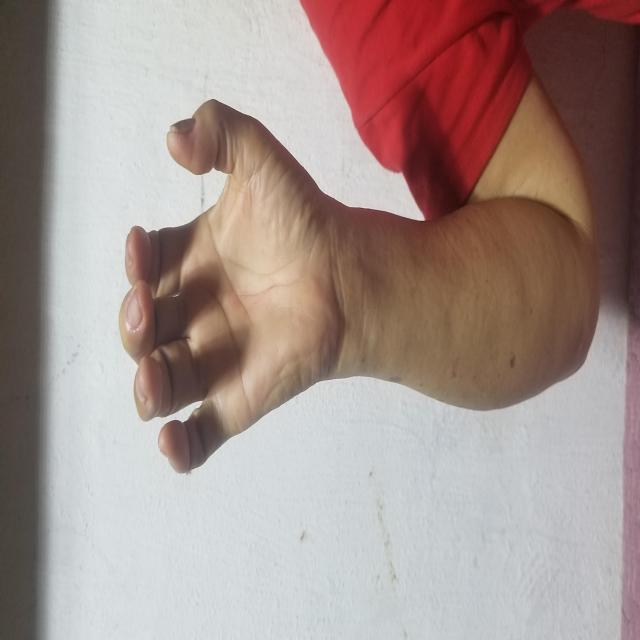E: (168, 120, 546, 336)
